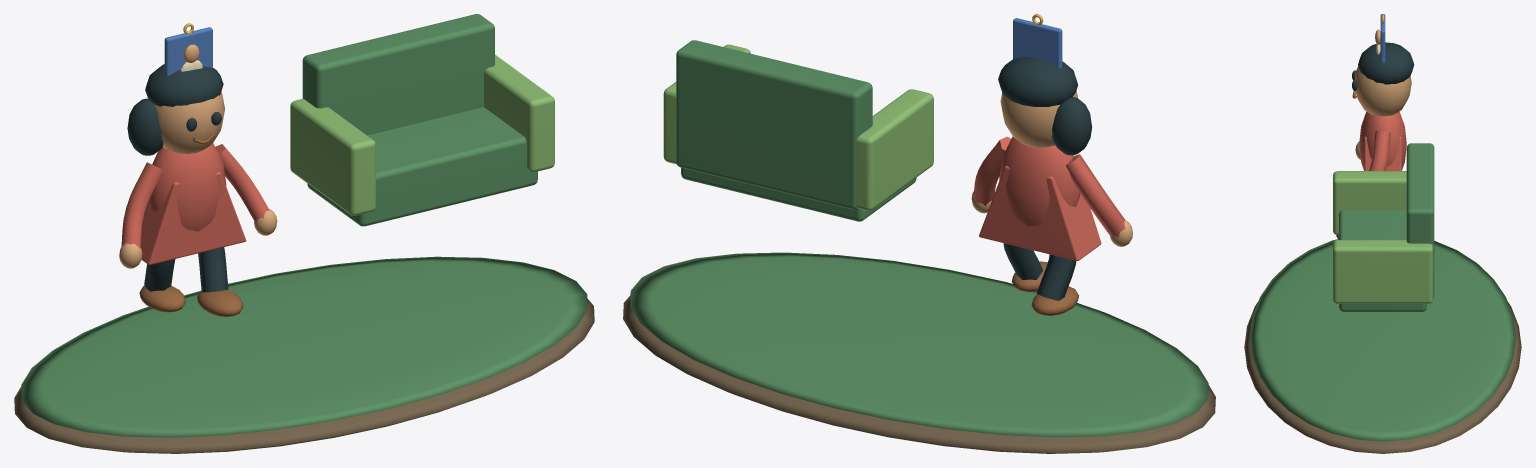
Rendered from complete-first-she-on-bench.glb.
The picture shows the model from 3 angles, left to right: view 1: azimuth 30°, elevation 25°; view 2: azimuth 150°, elevation 25°; view 3: azimuth 270°, elevation 25°; orthographic projection. The views are drawn at different scales.
Visible parts, largest first — view 1: complete-first-she-on-bench_surface_01, complete-first-she-on-bench_surface_06, complete-first-she-on-bench_surface_05, complete-first-she-on-bench_surface_00, complete-first-she-on-bench_surface_03, complete-first-she-on-bench_surface_02, complete-first-she-on-bench_surface_04, complete-first-she-on-bench_surface_07; view 2: complete-first-she-on-bench_surface_01, complete-first-she-on-bench_surface_05, complete-first-she-on-bench_surface_00, complete-first-she-on-bench_surface_06, complete-first-she-on-bench_surface_03, complete-first-she-on-bench_surface_02, complete-first-she-on-bench_surface_07, complete-first-she-on-bench_surface_04; view 3: complete-first-she-on-bench_surface_01, complete-first-she-on-bench_surface_06, complete-first-she-on-bench_surface_00, complete-first-she-on-bench_surface_05, complete-first-she-on-bench_surface_02, complete-first-she-on-bench_surface_03.
Boxes of the visible parts, x1,y1,x2,y2 form: complete-first-she-on-bench_surface_01: (21,14,587,437); complete-first-she-on-bench_surface_06: (290,55,554,215); complete-first-she-on-bench_surface_05: (121,143,269,264); complete-first-she-on-bench_surface_00: (14,298,594,453); complete-first-she-on-bench_surface_03: (127,64,228,292); complete-first-she-on-bench_surface_02: (119,44,277,268); complete-first-she-on-bench_surface_04: (139,133,243,316); complete-first-she-on-bench_surface_07: (164,27,212,76); complete-first-she-on-bench_surface_01: (630,40,1208,437); complete-first-she-on-bench_surface_05: (974,136,1125,260); complete-first-she-on-bench_surface_00: (623,295,1215,453); complete-first-she-on-bench_surface_06: (663,44,933,210); complete-first-she-on-bench_surface_03: (998,57,1092,300); complete-first-she-on-bench_surface_02: (971,90,1132,246); complete-first-she-on-bench_surface_07: (1013,18,1062,68); complete-first-she-on-bench_surface_04: (1011,261,1078,315); complete-first-she-on-bench_surface_01: (1250,143,1515,441); complete-first-she-on-bench_surface_06: (1333,171,1432,303); complete-first-she-on-bench_surface_00: (1244,302,1521,453); complete-first-she-on-bench_surface_05: (1359,111,1406,170); complete-first-she-on-bench_surface_02: (1354,29,1411,159); complete-first-she-on-bench_surface_03: (1352,42,1414,90).
Size of the model in its own units: 4.56 by 2.99 by 2.5.
